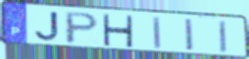H: (102, 13, 135, 49)
I: (184, 18, 196, 53), (152, 16, 162, 51), (218, 20, 228, 55)
J: (34, 11, 60, 43)
P: (65, 11, 101, 45)
